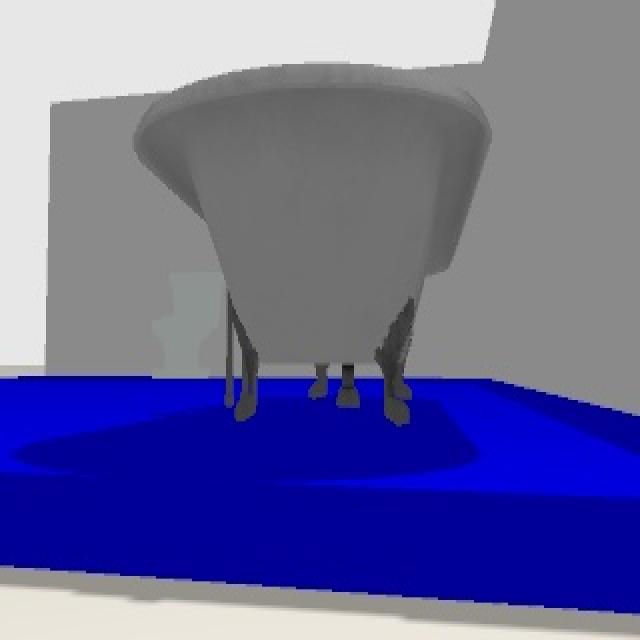bathtub: (130, 64, 496, 427)
